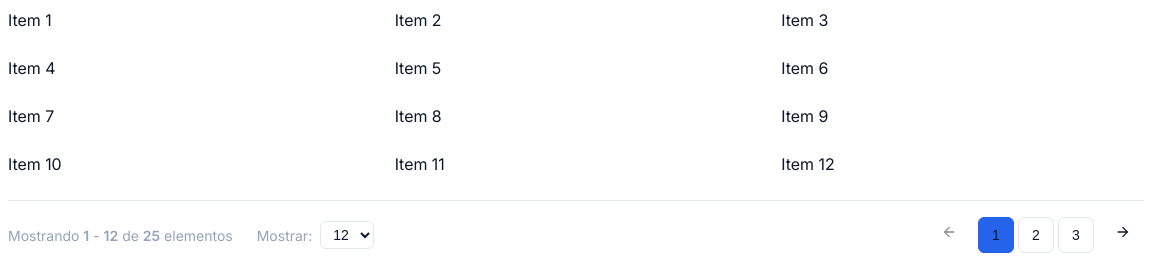
Scenario: PaginatedGrid › navigates to next page
The width and height of the screenshot is (1152, 270).
What coordinates should you click on to do the following:
click the button named "Página siguiente"
I would click on:
 (1123, 235)
Its box is [1102,219,1144,251].
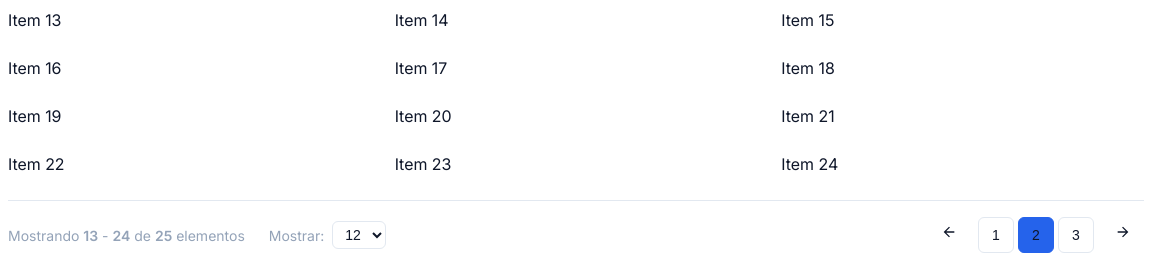
Result: the text "Item 13" is shown at [8,10,61,30]
Result: the text "Item 24" is shown at [781,154,838,174]
